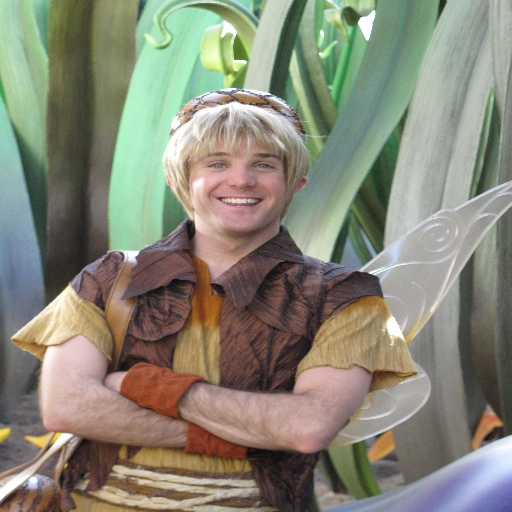hand: (101, 370, 127, 391), (338, 416, 351, 430)
